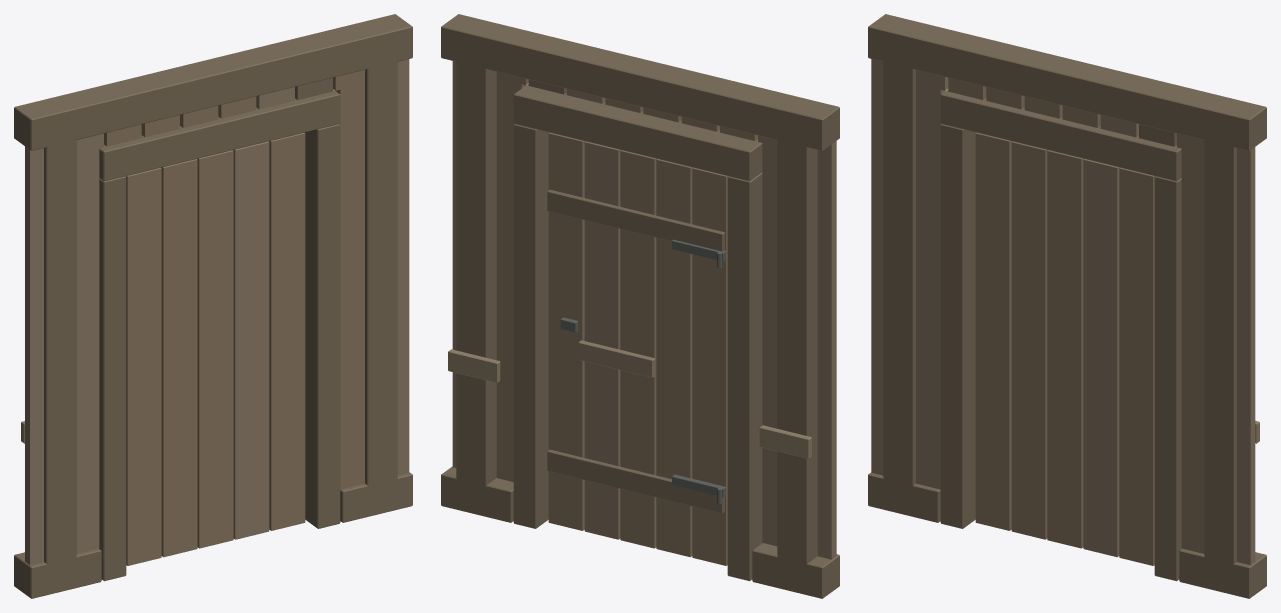
The model's file is doorway_with_reference_door.glb.
3 renders of one model, left to right at view 1: azimuth 30°, elevation 25°; view 2: azimuth 150°, elevation 25°; view 3: azimuth 330°, elevation 25°, orthographic.
Parts seen in each view (by area): view 1: root_material_2, door_leaf_material_0, root_material_1, door_leaf_material_1, root_material_0; view 2: root_material_2, door_leaf_material_0, root_material_1, door_leaf_material_1, root_material_0, door_leaf_material_2, root_material_3, door_leaf_material_4; view 3: root_material_2, door_leaf_material_0, root_material_1, door_leaf_material_1, root_material_0.
Part boxes in pixels (box(x1,y1,x2,y2)): root_material_2: box(14, 14, 412, 598); door_leaf_material_0: box(126, 132, 305, 565); root_material_1: box(25, 59, 409, 565); door_leaf_material_1: box(233, 141, 269, 539); root_material_0: box(104, 70, 364, 521); root_material_2: box(441, 14, 839, 598); door_leaf_material_0: box(548, 132, 727, 565); root_material_1: box(452, 61, 836, 559); door_leaf_material_1: box(578, 141, 655, 539); root_material_0: box(496, 72, 757, 481); door_leaf_material_2: box(547, 189, 724, 513); root_material_3: box(448, 349, 811, 458); door_leaf_material_4: box(560, 239, 725, 497); root_material_2: box(868, 14, 1266, 598); door_leaf_material_0: box(975, 132, 1154, 565); root_material_1: box(871, 59, 1255, 565); door_leaf_material_1: box(1083, 159, 1119, 557); root_material_0: box(948, 77, 1204, 553).
Bounding box in the file's own units: 2 × 2.4 × 0.19.
